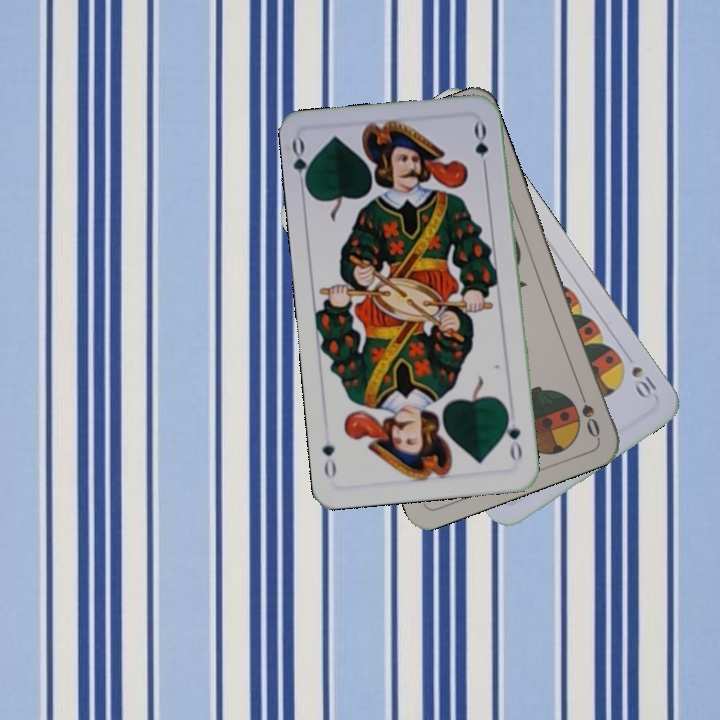GO: (288, 135, 316, 195), (500, 407, 525, 466)
S10: (627, 362, 659, 402)
SO: (574, 383, 603, 441)
